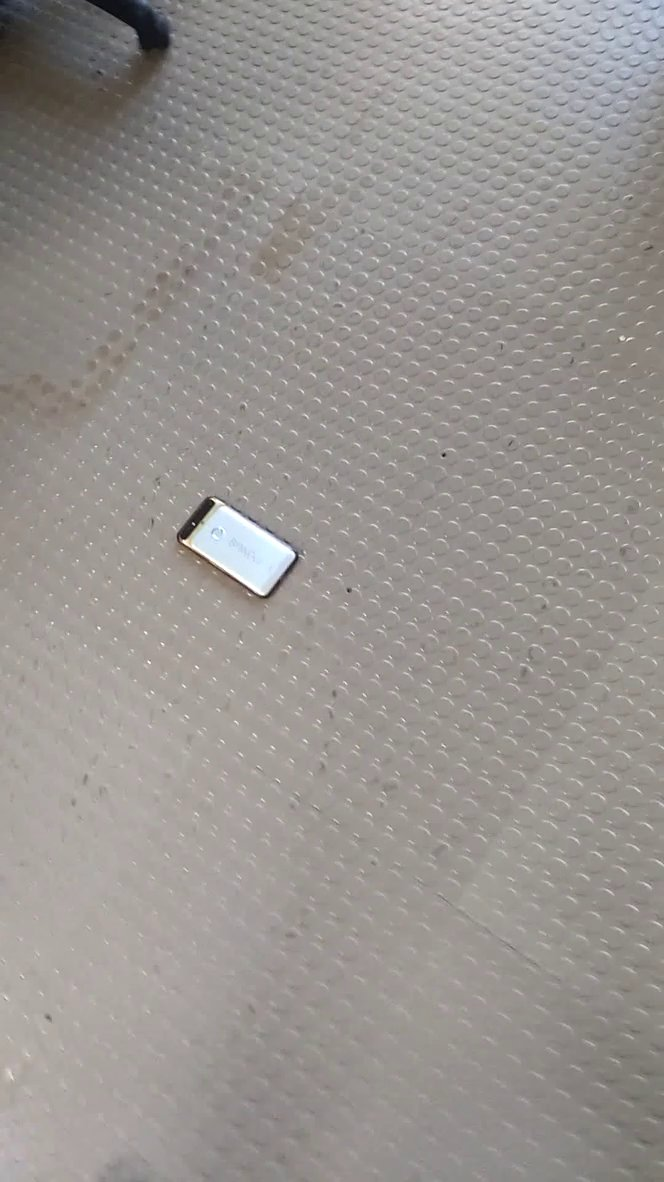phone: (163, 485, 316, 607)
